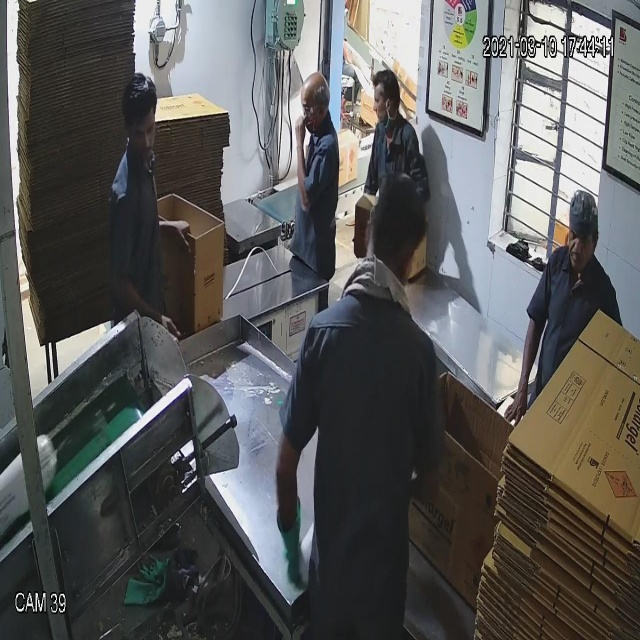Guantes: (265, 476, 305, 602)
Sin_guantes: (104, 250, 186, 384), (498, 293, 542, 428), (293, 104, 314, 220)
